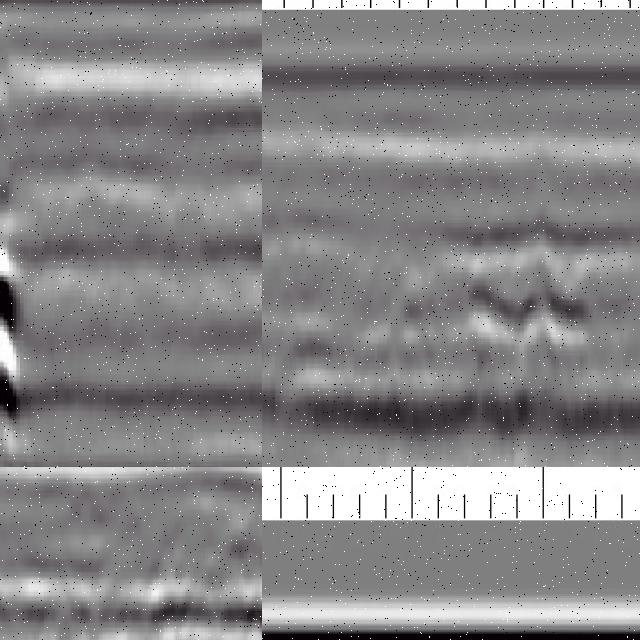crack: (1, 85, 22, 468)
loose: (452, 217, 606, 345), (1, 522, 120, 640)
